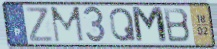3: (82, 4, 108, 46)
B: (162, 7, 193, 44)
M: (129, 6, 170, 45), (49, 5, 86, 44)
Q: (109, 7, 138, 44)
Z: (24, 6, 55, 43)
